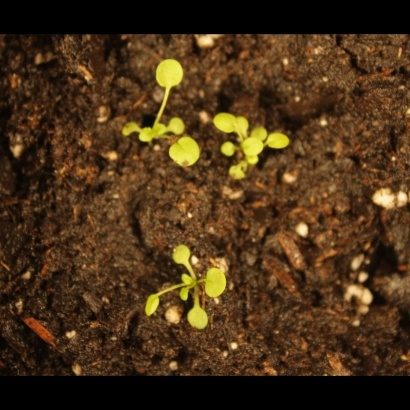leaf: (164, 133, 202, 171), (153, 56, 189, 93), (202, 263, 233, 303), (183, 301, 215, 338), (139, 287, 166, 319), (169, 240, 196, 268), (213, 110, 239, 136), (117, 114, 140, 139), (267, 130, 292, 153), (169, 113, 192, 136), (178, 264, 201, 287), (173, 286, 196, 309), (224, 164, 247, 187), (216, 139, 239, 162), (233, 110, 256, 133), (241, 134, 264, 157), (248, 121, 271, 144)
